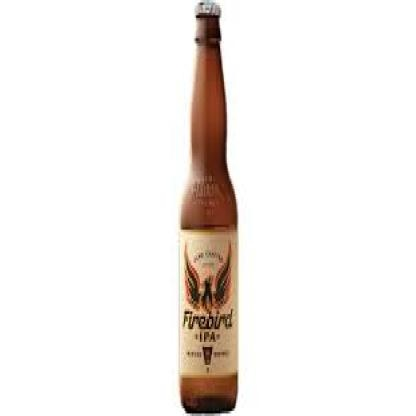trash: (179, 1, 237, 412)
